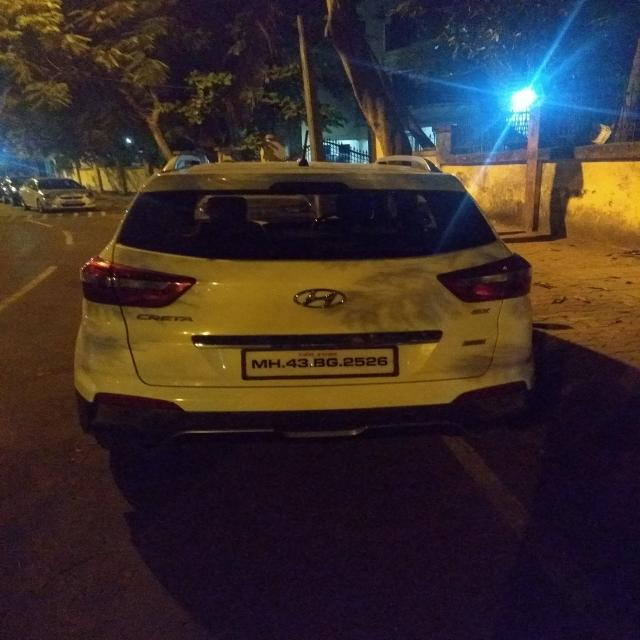Number-Plate: (244, 349, 395, 377)
